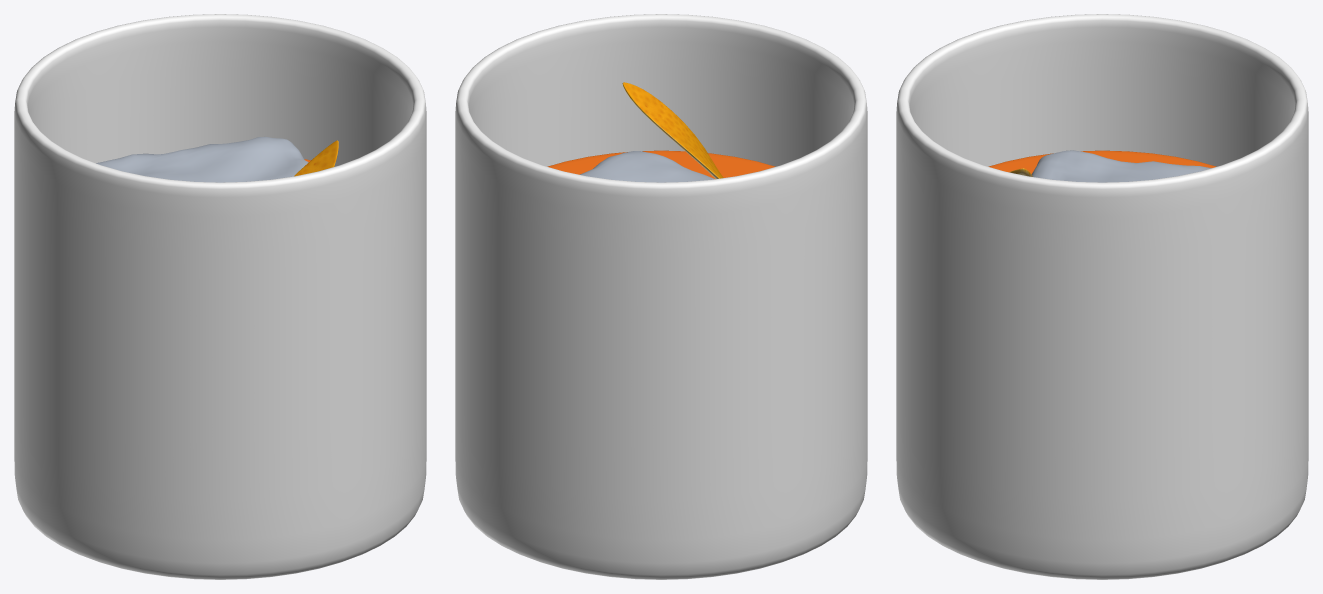
The model's file is Old_Fashioned_High_Poly.obj.
The picture shows the model from 3 angles, left to right: view 1: azimuth 30°, elevation 25°; view 2: azimuth 150°, elevation 25°; view 3: azimuth 270°, elevation 25°; orthographic projection.
Visible parts, largest first — view 1: Whiskey_Glass_Cylinder.002, Ice_Cube_Cube, Orange_Peel_Plane.005; view 2: Whiskey_Glass_Cylinder.002, Ice_Cube_Cube, Orange_Peel_Plane.005, Whiskey_Liquid_Cylinder.003; view 3: Whiskey_Glass_Cylinder.002, Ice_Cube_Cube, Whiskey_Liquid_Cylinder.003.
Boxes of the visible parts, box(x1,y1,x2,y2) form: Whiskey_Glass_Cylinder.002: box(14, 14, 426, 579); Ice_Cube_Cube: box(96, 136, 308, 182); Orange_Peel_Plane.005: box(294, 140, 338, 176); Whiskey_Glass_Cylinder.002: box(455, 14, 867, 579); Ice_Cube_Cube: box(580, 151, 714, 182); Orange_Peel_Plane.005: box(622, 82, 723, 178); Whiskey_Liquid_Cylinder.003: box(547, 150, 775, 179); Whiskey_Glass_Cylinder.002: box(896, 14, 1308, 579); Ice_Cube_Cube: box(1031, 150, 1211, 182); Whiskey_Liquid_Cylinder.003: box(988, 150, 1216, 174).
Bounding box in the file's own units: 0.075 × 0.0802 × 0.075.
